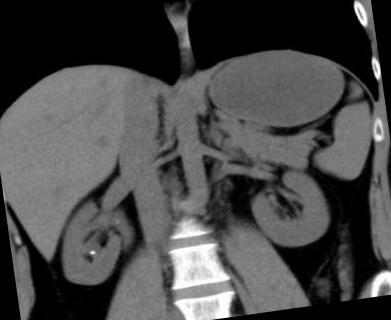Tas_Var: (86, 248, 97, 256)
